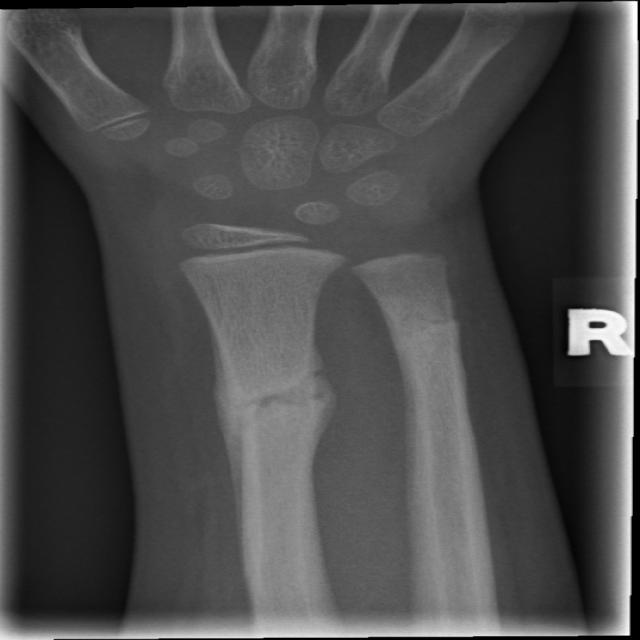radius fracture: (162, 323, 372, 519)
